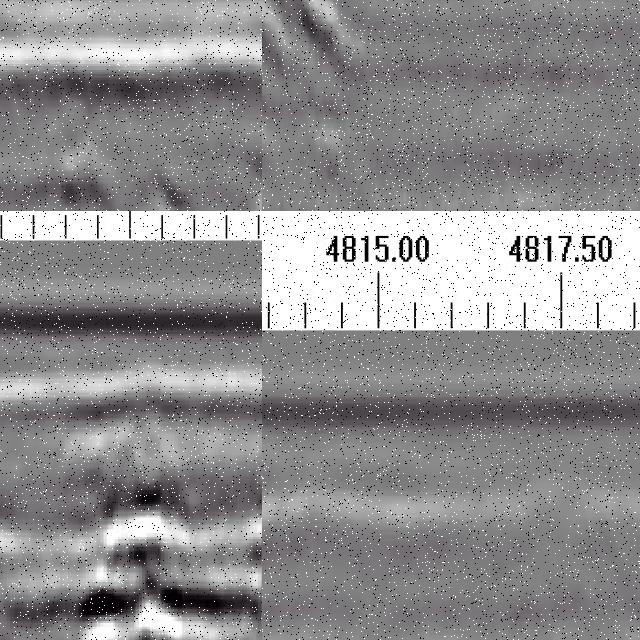loose: (79, 481, 263, 640), (39, 153, 263, 212), (263, 1, 348, 79)
